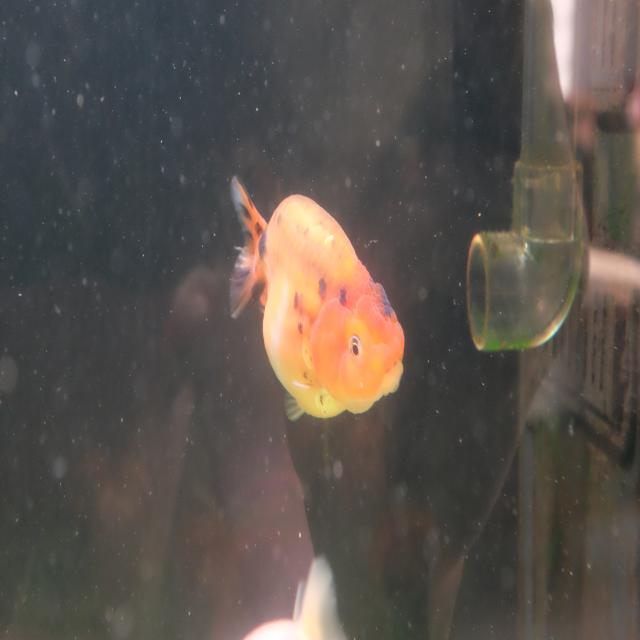Goldfish: (226, 166, 406, 422)
